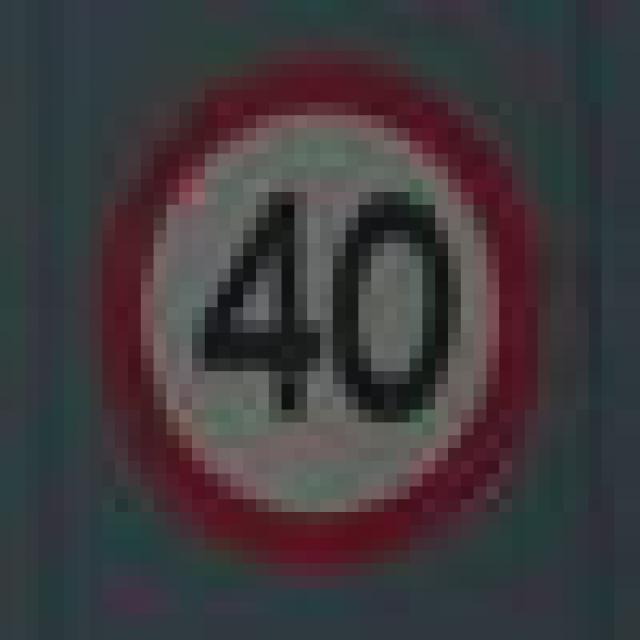SPEED_LIMIT_40: (90, 38, 524, 550)
